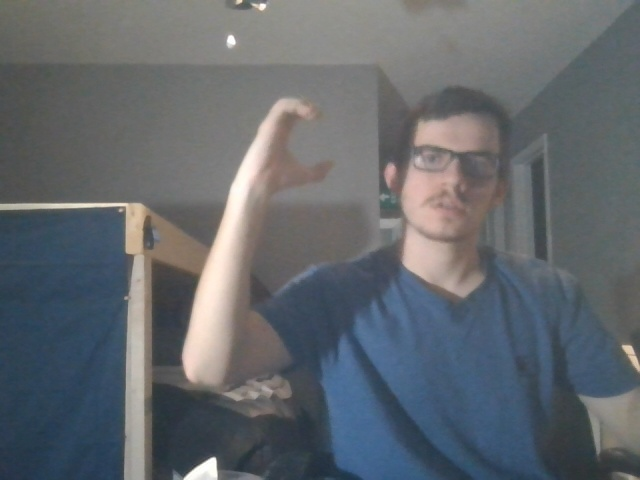C: (229, 84, 354, 212)
